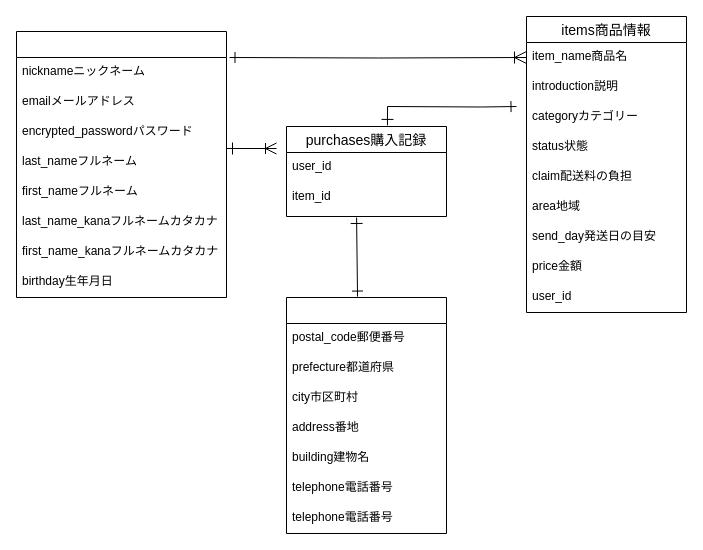
The diagram is 703 pixels wide and 550 high, and some of its shapes have lost their labels. The shapes that lost their labels are listed below. From the top down, each one's box as (x1, y1, x2, y2) in pixels, then its label:
(16, 30, 226, 298): usersユーザー
(286, 296, 446, 534): addresses発送先情報
